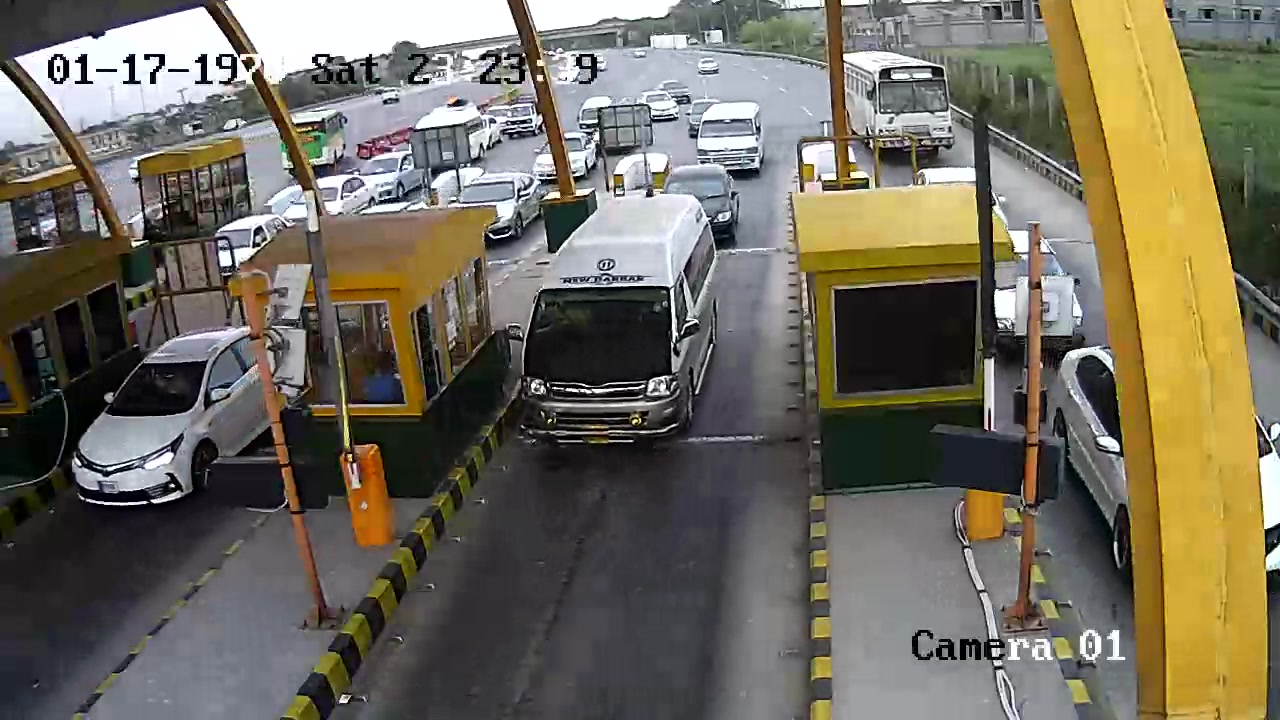F3: (521, 193, 715, 449)
